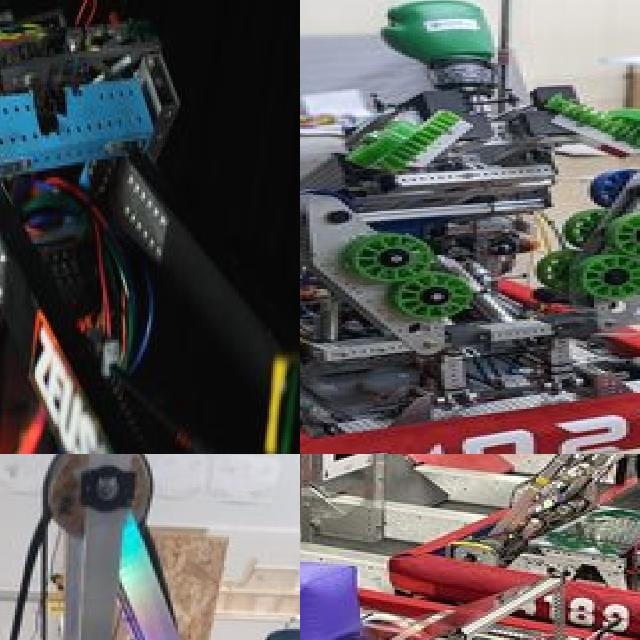FRC-Robots: (300, 0, 640, 454), (0, 0, 300, 454), (0, 465, 300, 640), (421, 454, 640, 640), (300, 557, 640, 640)
